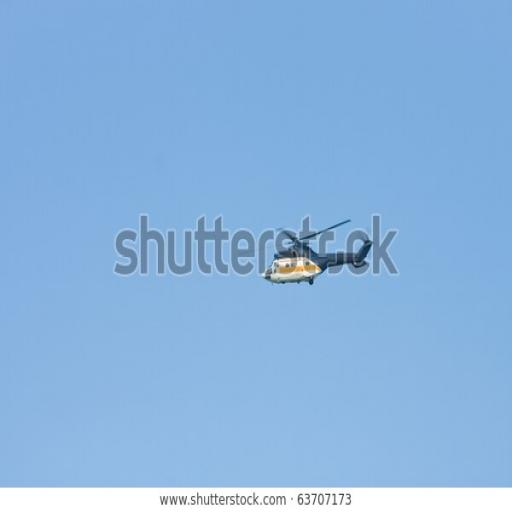helicopter: (264, 221, 374, 293)
